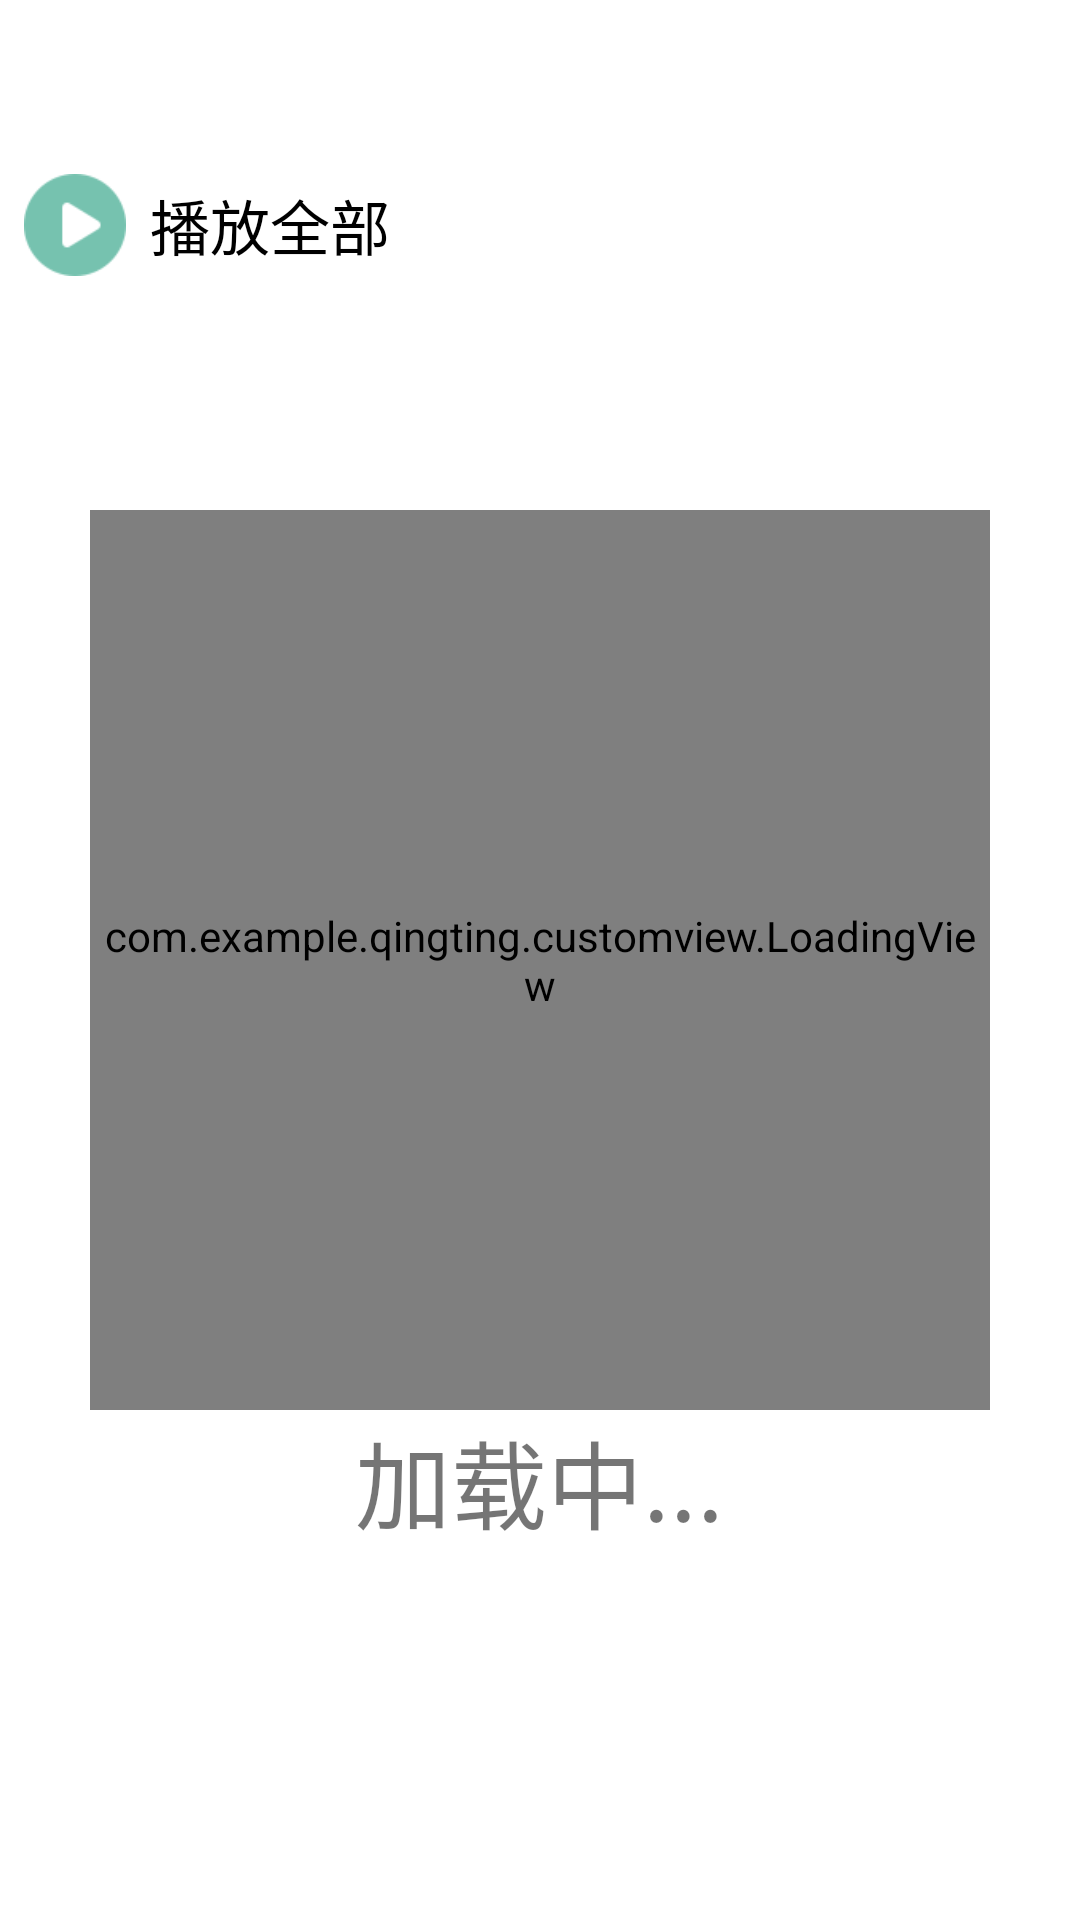

Icon click points for this 1080px x 1920px phone screenshot, format (x=x, y=y):
play list: (x=75, y=225)
